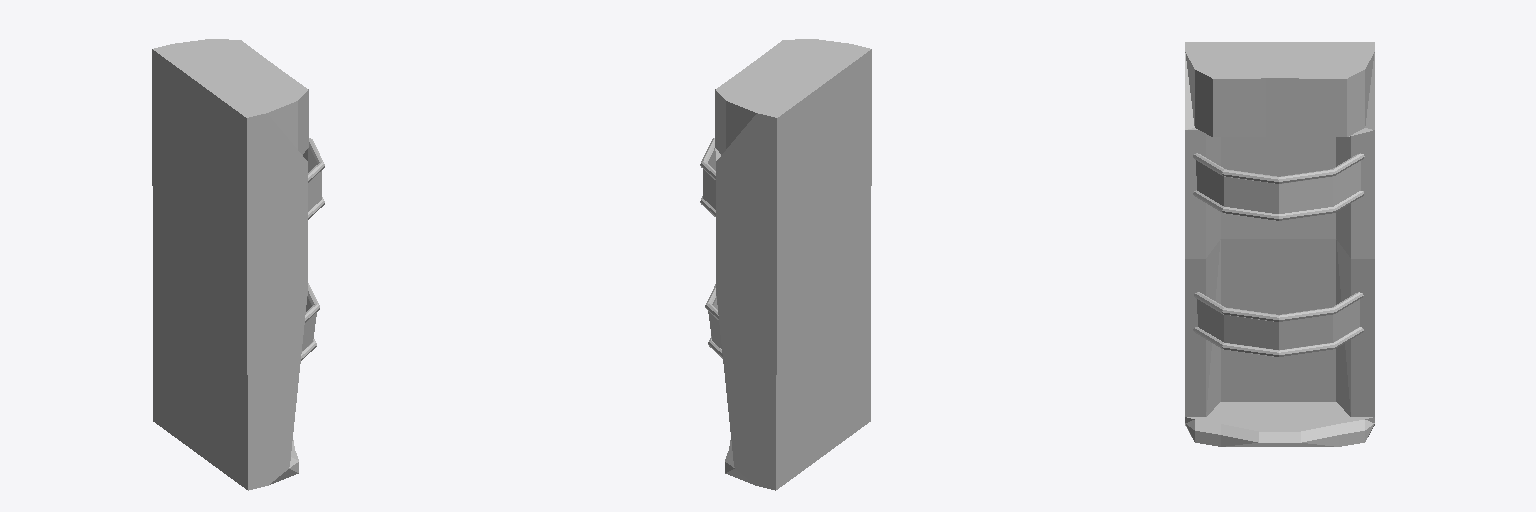
The model's file is chamber.obj.
3 views of the same model, side by side, from view 1: azimuth 30°, elevation 25°; view 2: azimuth 150°, elevation 25°; view 3: azimuth 270°, elevation 25° (orthographic).
Parts seen in each view (by area): view 1: Main_Cylinder, Shield_Torus; view 2: Main_Cylinder, Shield_Torus; view 3: Main_Cylinder, Shield_Torus.
Part boxes in pixels (left/top/right/bottom): Main_Cylinder: left=152, top=39, right=308, bottom=490; Shield_Torus: left=301, top=138, right=324, bottom=360; Main_Cylinder: left=715, top=39, right=871, bottom=490; Shield_Torus: left=700, top=138, right=722, bottom=358; Main_Cylinder: left=1185, top=42, right=1374, bottom=446; Shield_Torus: left=1193, top=153, right=1364, bottom=356.
Size of the model in its own units: 1.38 by 4.35 by 2.